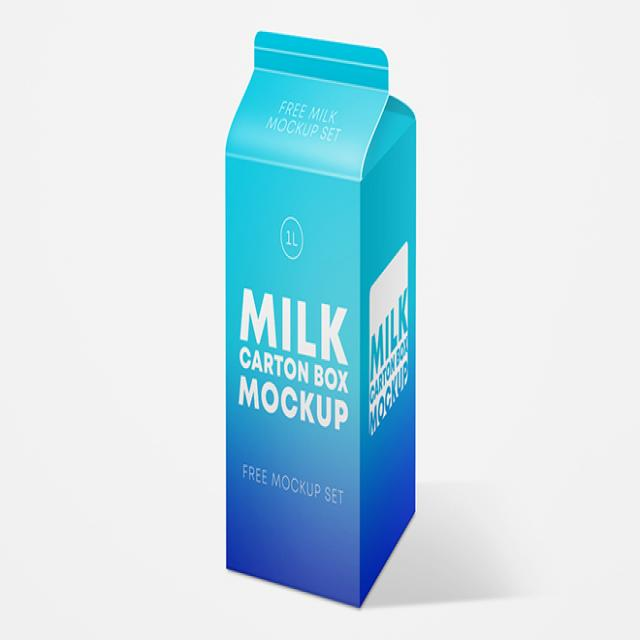non_white_jug: (207, 22, 436, 624)
